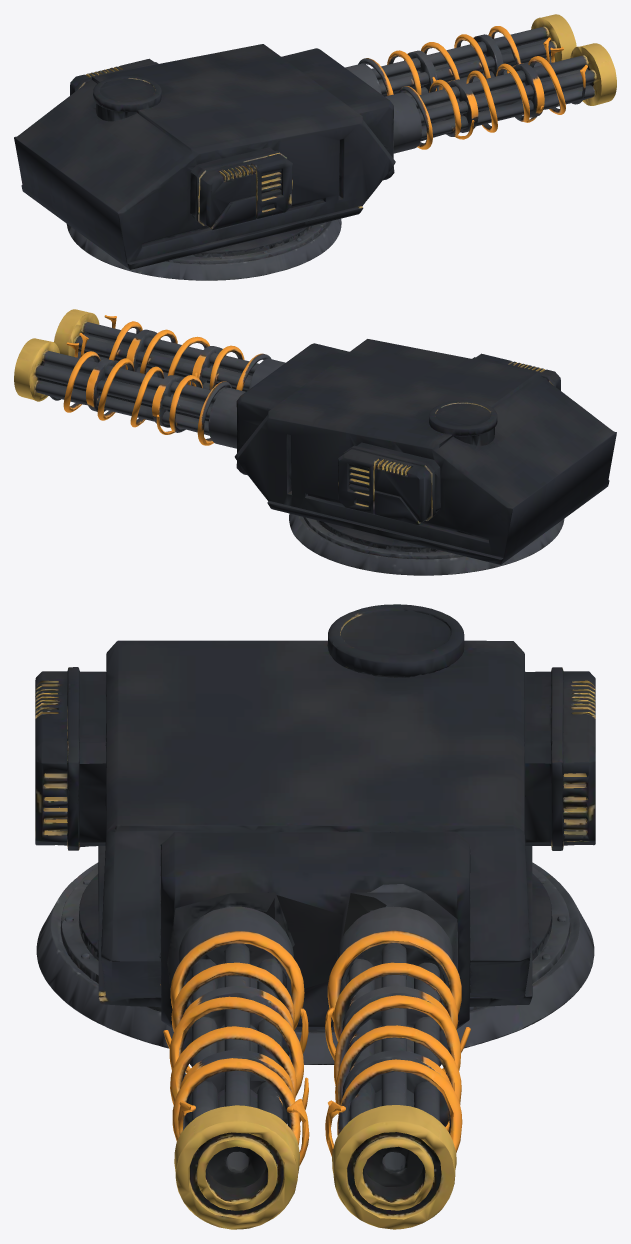
Rendered from weapon-twin-2-full.glb.
3 renders of one model, top to bottom at view 1: azimuth 30°, elevation 25°; view 2: azimuth 150°, elevation 25°; view 3: azimuth 270°, elevation 25°, orthographic. The views are drawn at different scales.
Parts seen in each view (by area): view 1: weapon-twin-2-full; view 2: weapon-twin-2-full; view 3: weapon-twin-2-full.
Part boxes in pixels (x1,y1,x2,y2): weapon-twin-2-full: (14, 14, 616, 280); weapon-twin-2-full: (14, 309, 616, 575); weapon-twin-2-full: (35, 604, 595, 1229).
Size of the model in its own units: 2.7 by 0.6599 by 1.27.
1 material, 1 textured.
